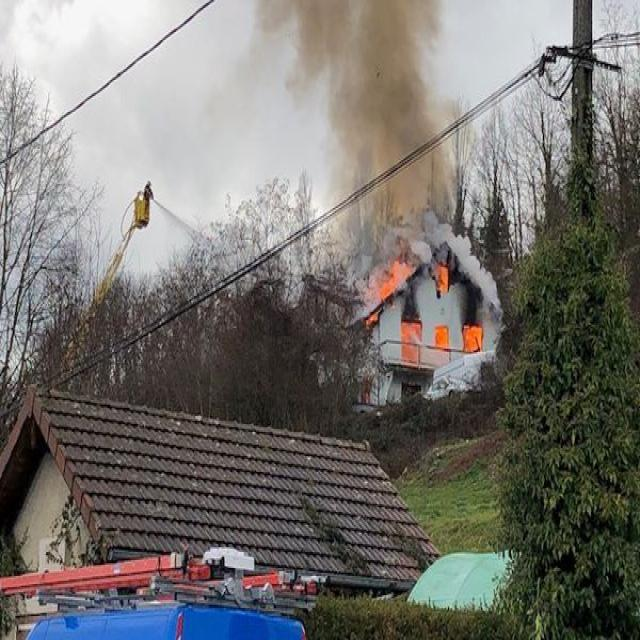Smoke: (336, 9, 448, 224)
